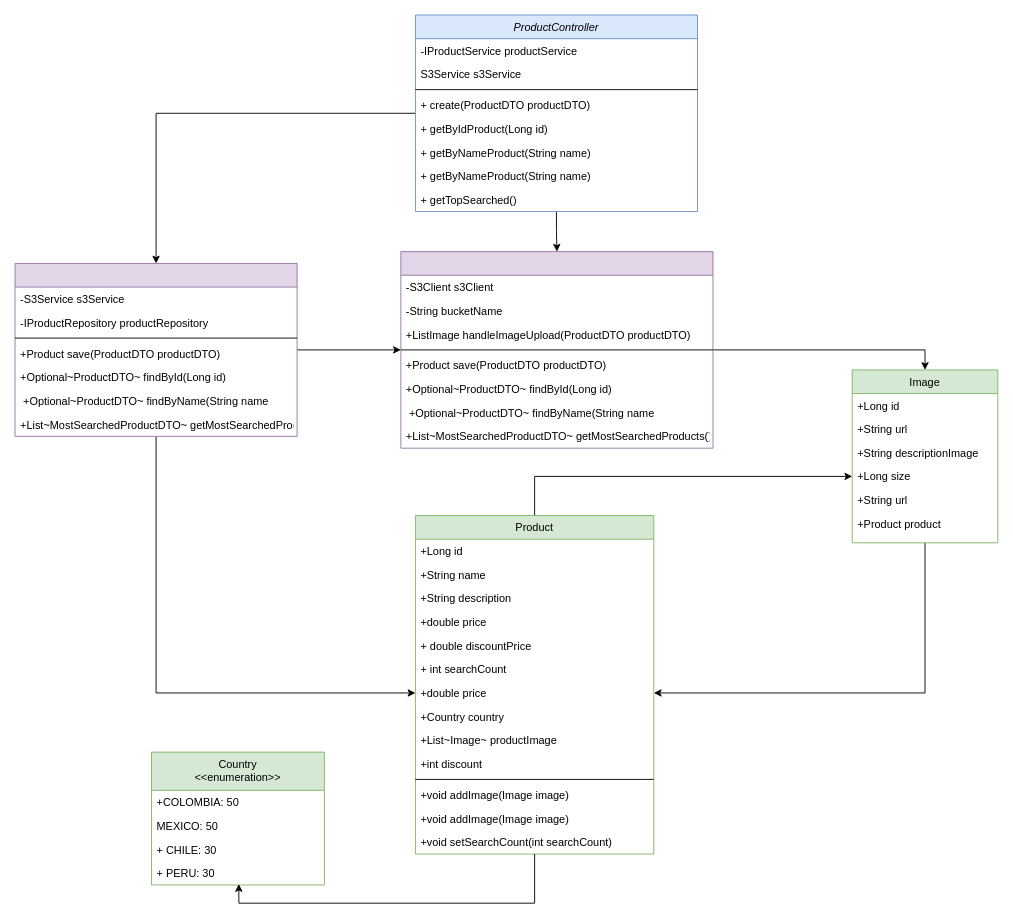
Image size: 1013x918. Some labels were removed from this diagram. The shapes that lost their labels are listed below. From the top down, each one's box as (x1, y1, x2, y2) in pixels, then its label:
(14, 263, 297, 436): ProductServiceIMPL
(400, 251, 713, 448): S3Service
